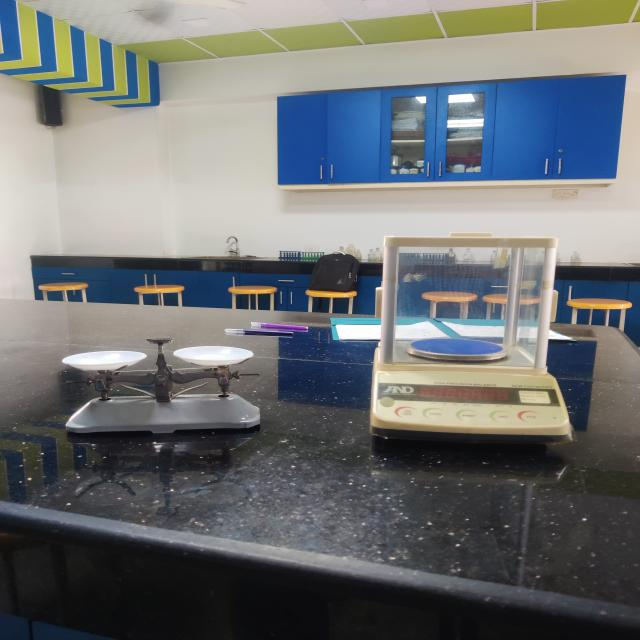Mechanical_Balance_Scale: (26, 318, 287, 480)
Precision_Weight_Scale: (336, 203, 612, 490)
